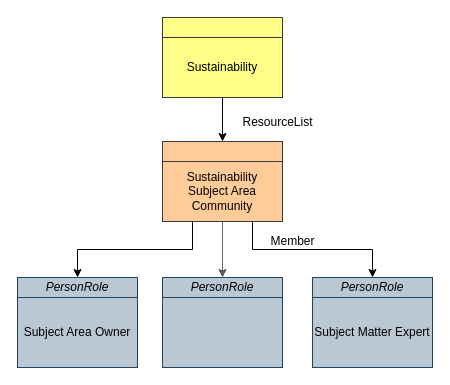
The diagram is 450 pixels wide and 385 high, and some of its shapes have lost their labels. The shapes that lost their labels are listed below. From the top down, each one's centre as x and y in pixels, then its label:
At point (222, 27): "SubjectAreaDefinition".
At point (222, 151): "Community".
At point (222, 332): "Subject Area Project Manager".
